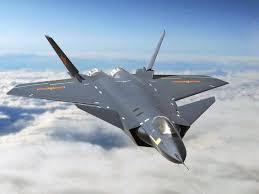fighter: (4, 27, 232, 168)
